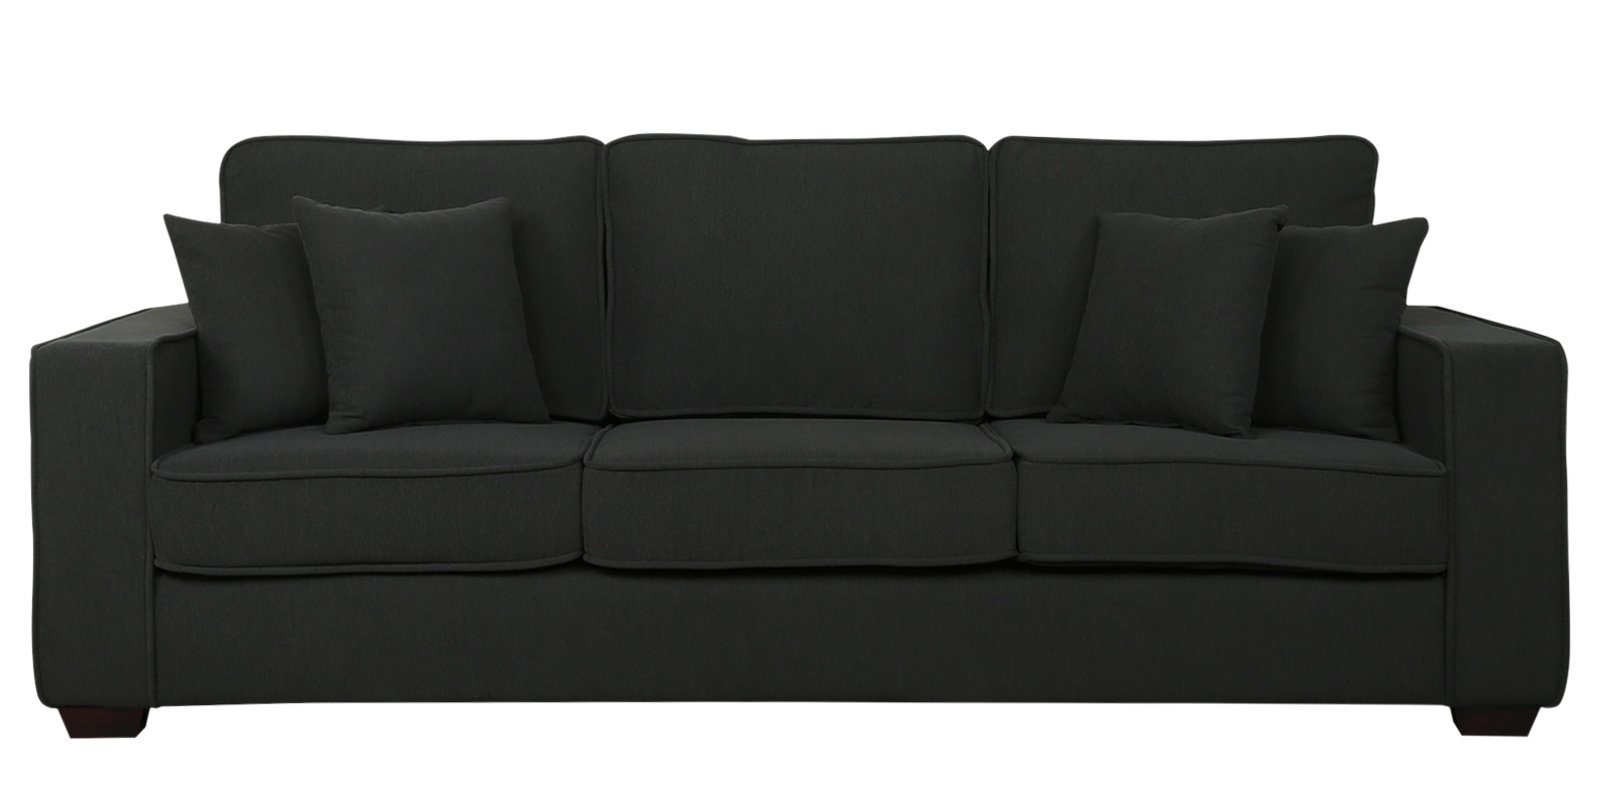Hugo Three Seater Sofa in Charcoal Grey Colour by CasaCraft: (8, 116, 1600, 750)
